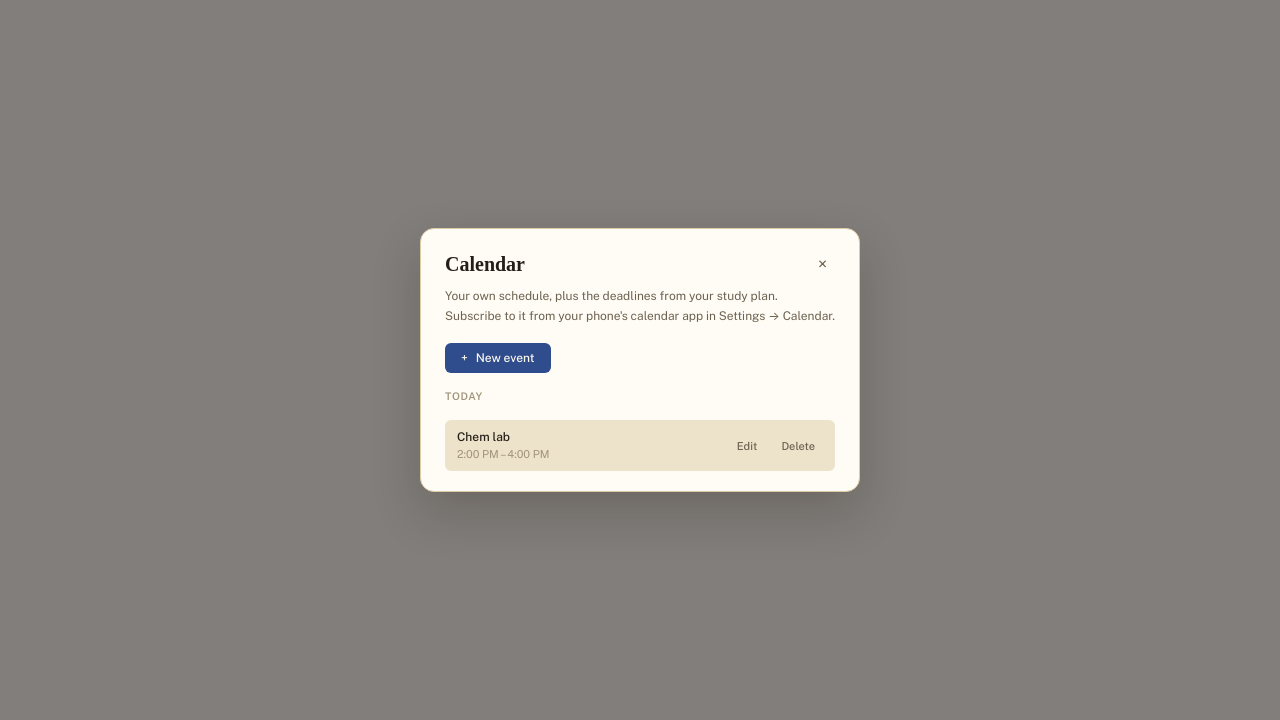
Test: CalendarPanel › edits an existing event and sends an explicit null to clear its end time
Expected: the text "Chem lab" is shown, 457,430 -> 510,444
Click the button with aria-label "edit chem lab". click: point(747, 446)
box: 729,436 -> 765,456
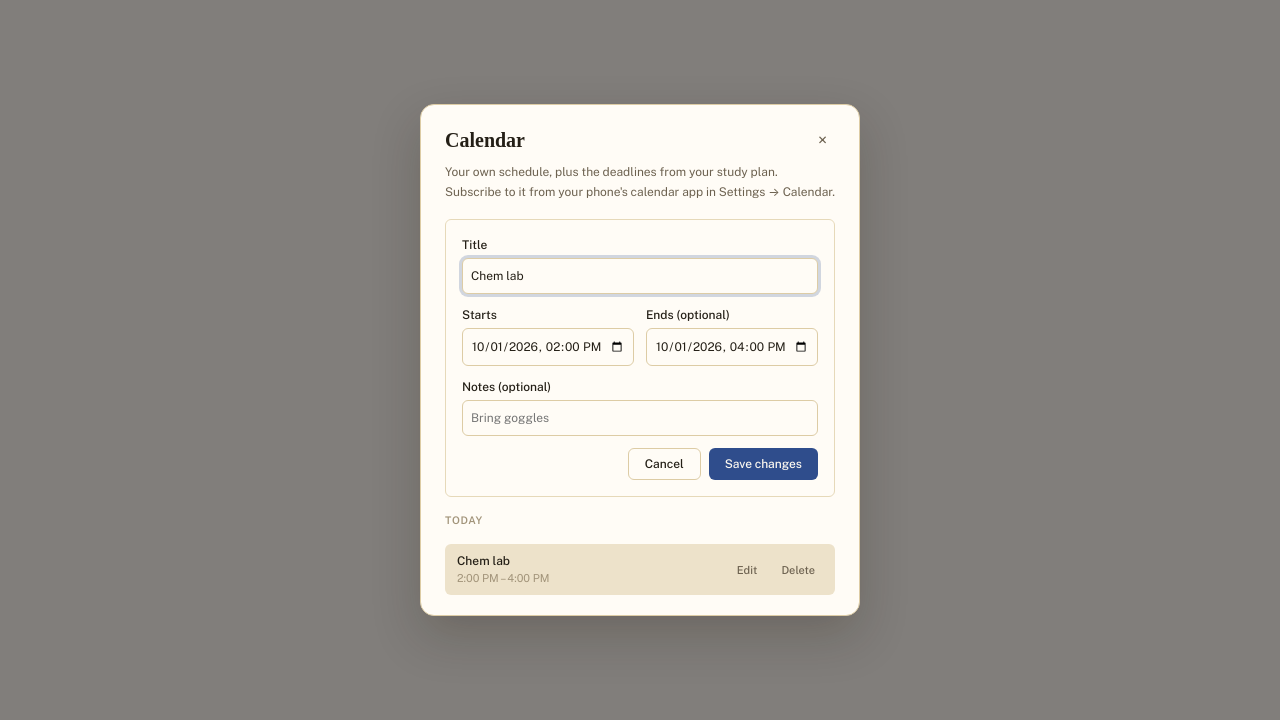
Type "Chem lab (moved)" into the field labelled "Title". click: point(640, 276)
box: 462,258 -> 818,294
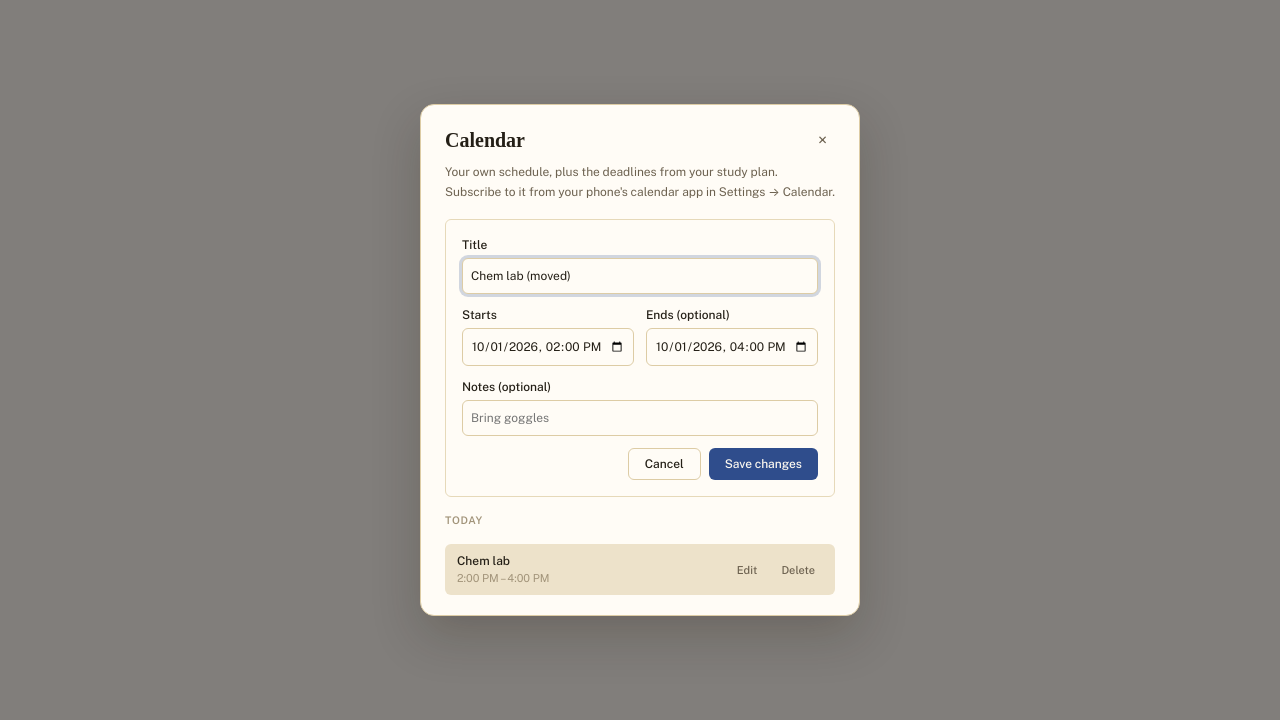
Clear the field labelled "Ends (optional)". click: point(732, 347)
box: 646,328 -> 818,366
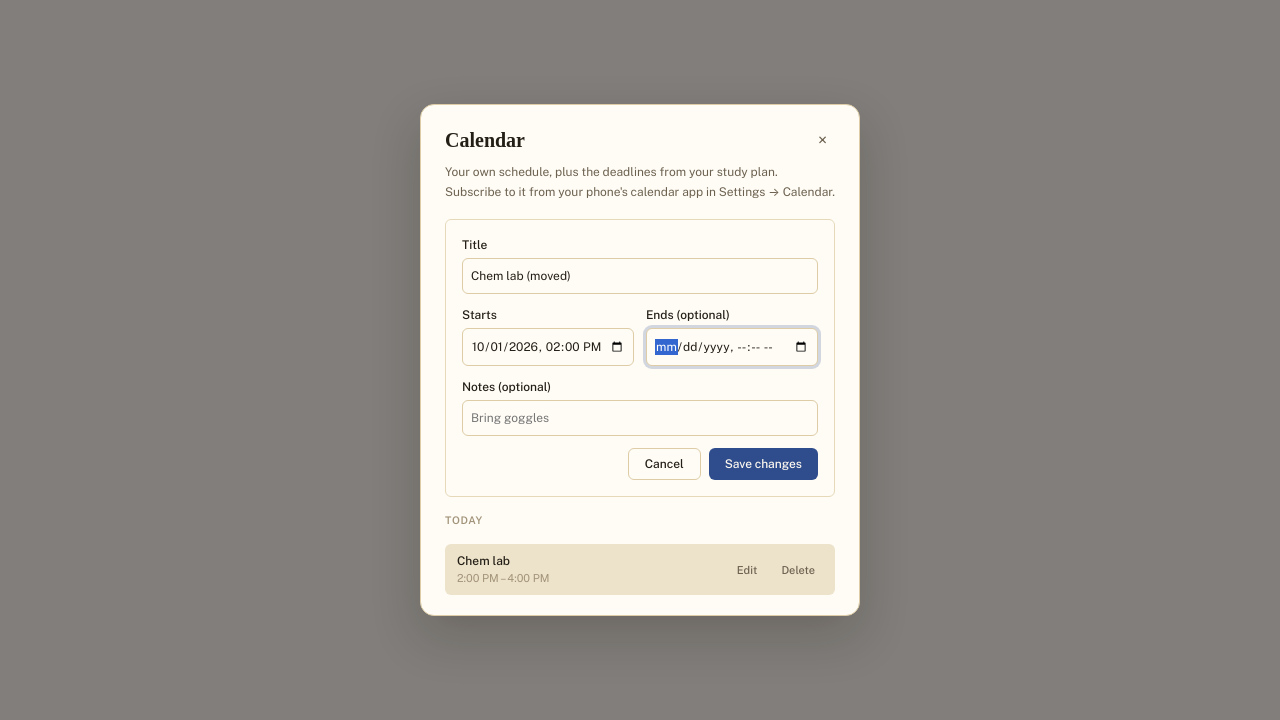
Click the button "Save changes". click: point(763, 464)
box: 709,448 -> 818,480
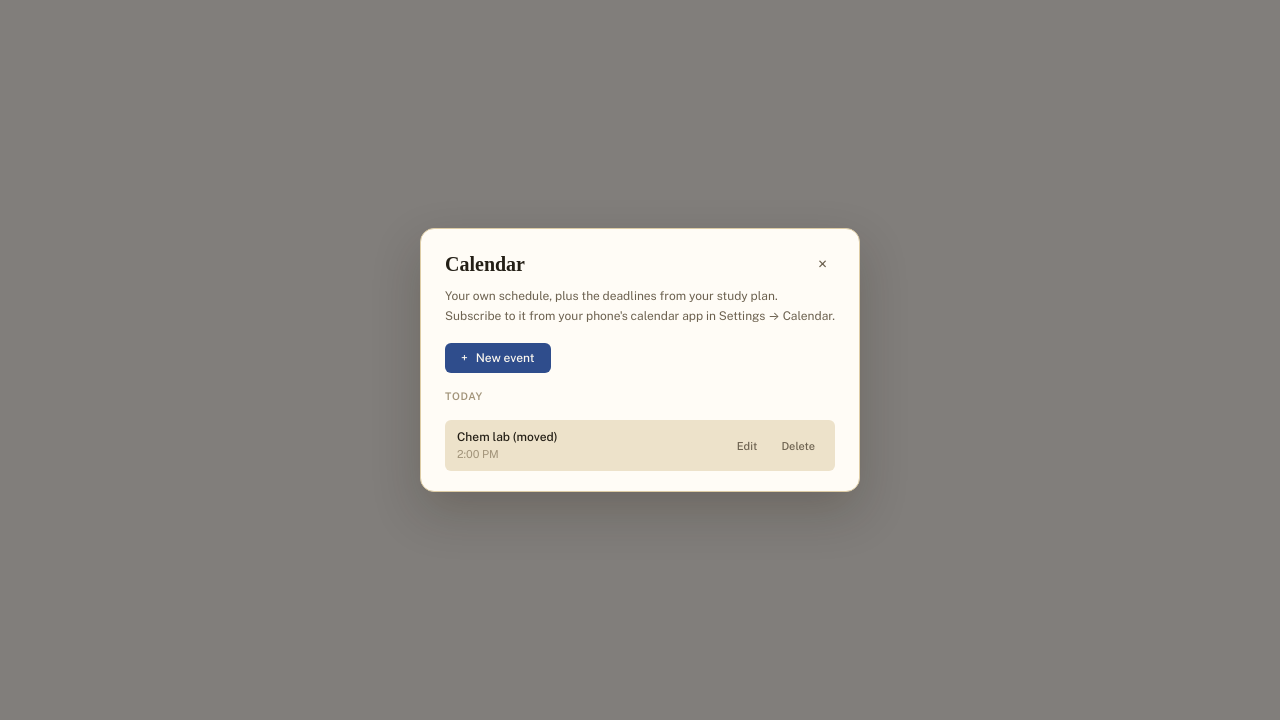
Result: the text "Chem lab" reads "Chem lab (moved)" at 457,430 -> 558,444
Result: the text "Chem lab (moved)" is shown at 457,428 -> 558,446
